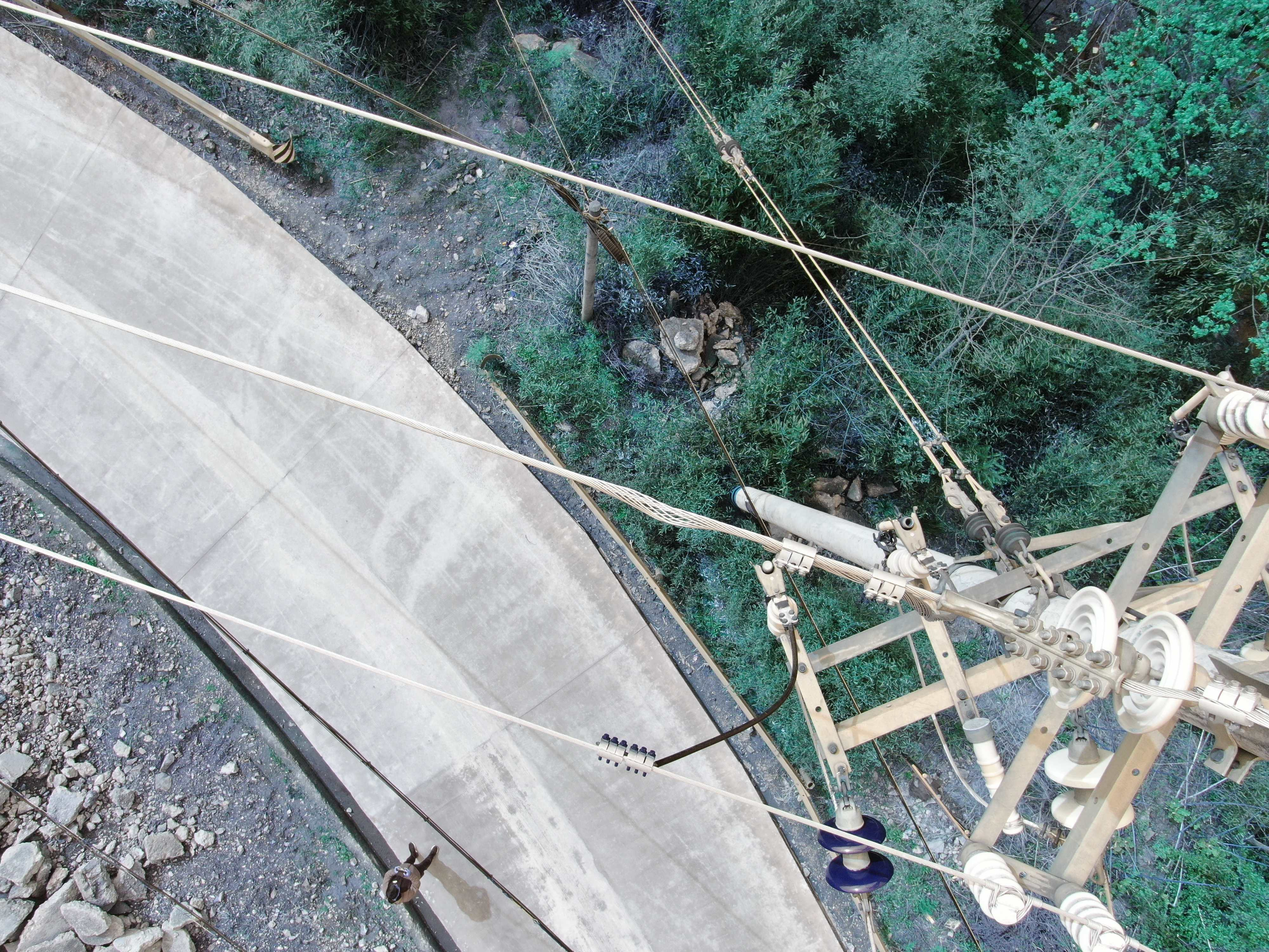severe_soiling_no_discharge_whole: (957, 838, 1029, 927), (1052, 879, 1129, 951), (1204, 385, 1268, 444)
